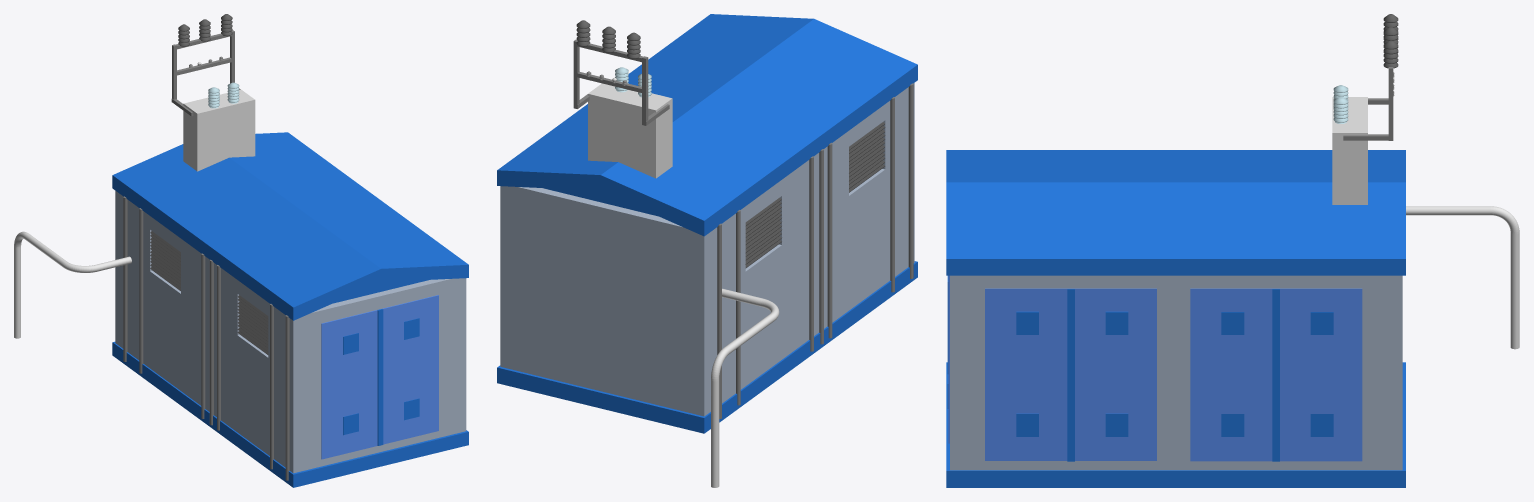
The model's file is trans1.0.fbx.
3 renders of one model, left to right at view 1: azimuth 30°, elevation 25°; view 2: azimuth 150°, elevation 25°; view 3: azimuth 270°, elevation 25°, orthographic. The views are drawn at different scales.
Parts seen in each view (by area): view 1: Cube; view 2: Cube; view 3: Cube.
Boxes of the visible parts, x1=… form: Cube: x1=14, y1=14, x2=468, y2=487; Cube: x1=497, y1=14, x2=917, y2=487; Cube: x1=946, y1=14, x2=1519, y2=487.
Bounding box in the file's own units: 247 × 326 × 418.
